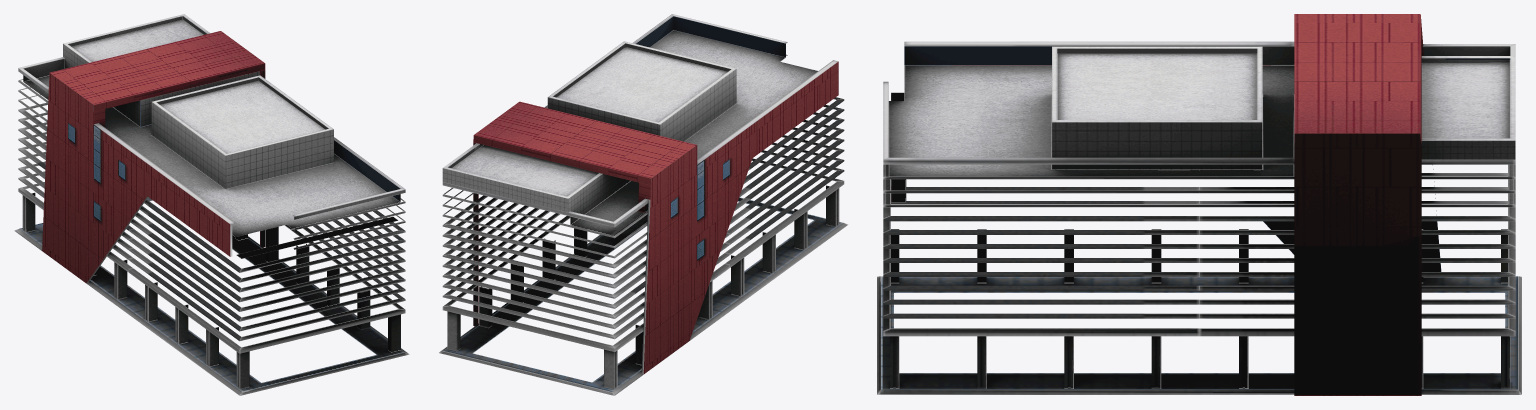
3 views of the same model, side by side, from view 1: azimuth 30°, elevation 25°; view 2: azimuth 150°, elevation 25°; view 3: azimuth 270°, elevation 25° (orthographic). The views are drawn at different scales.
Visible parts, largest first — view 1: 1002; view 2: 1002; view 3: 1002.
Boxes of the visible parts, x1,y1,x2,y2 form: 1002: (14, 14, 409, 395); 1002: (439, 14, 848, 395); 1002: (877, 14, 1521, 395).
Size of the model in its own units: 35.77 by 36.68 by 81.64.
1 material, 1 textured.
